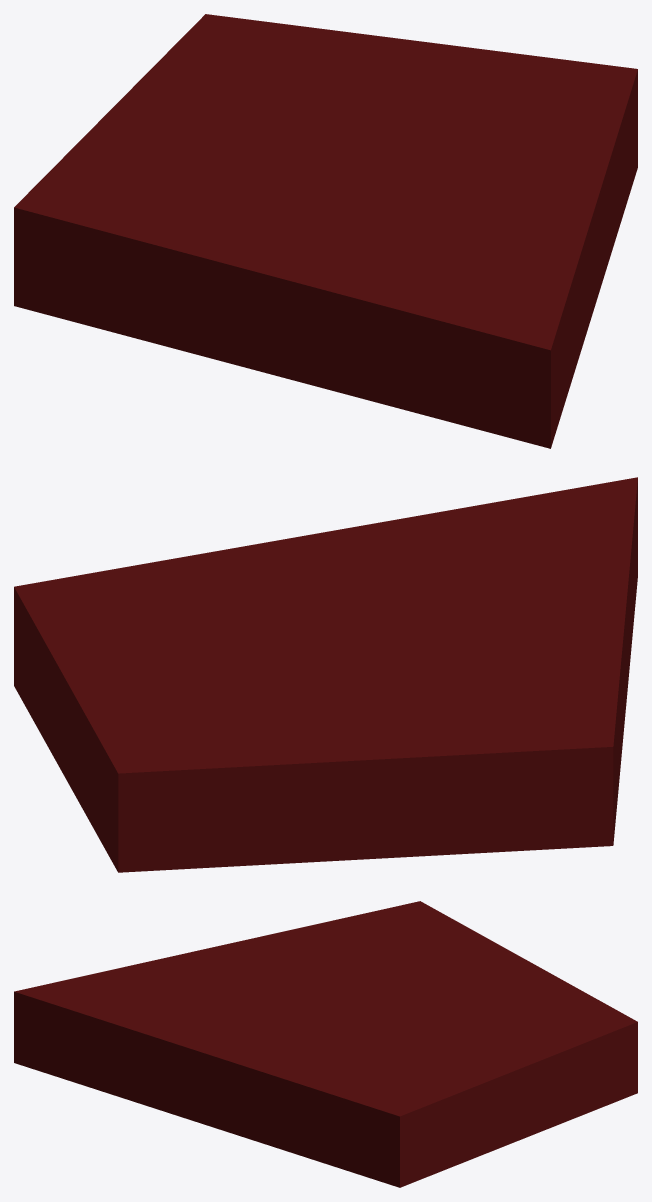
Rendered from Diamond_Landing_Left.fbx.
The picture shows the model from 3 angles, top to bottom: view 1: azimuth 30°, elevation 25°; view 2: azimuth 150°, elevation 25°; view 3: azimuth 270°, elevation 25°; orthographic projection. The views are drawn at different scales.
Parts seen in each view (by area): view 1: Diamond_Landing_Left; view 2: Diamond_Landing_Left; view 3: Diamond_Landing_Left.
Boxes of the visible parts, x1,y1,x2,y2 form: Diamond_Landing_Left: [14, 14, 637, 448]; Diamond_Landing_Left: [14, 477, 637, 872]; Diamond_Landing_Left: [14, 901, 637, 1187].
Size of the model in its own units: 647 by 100 by 792.
